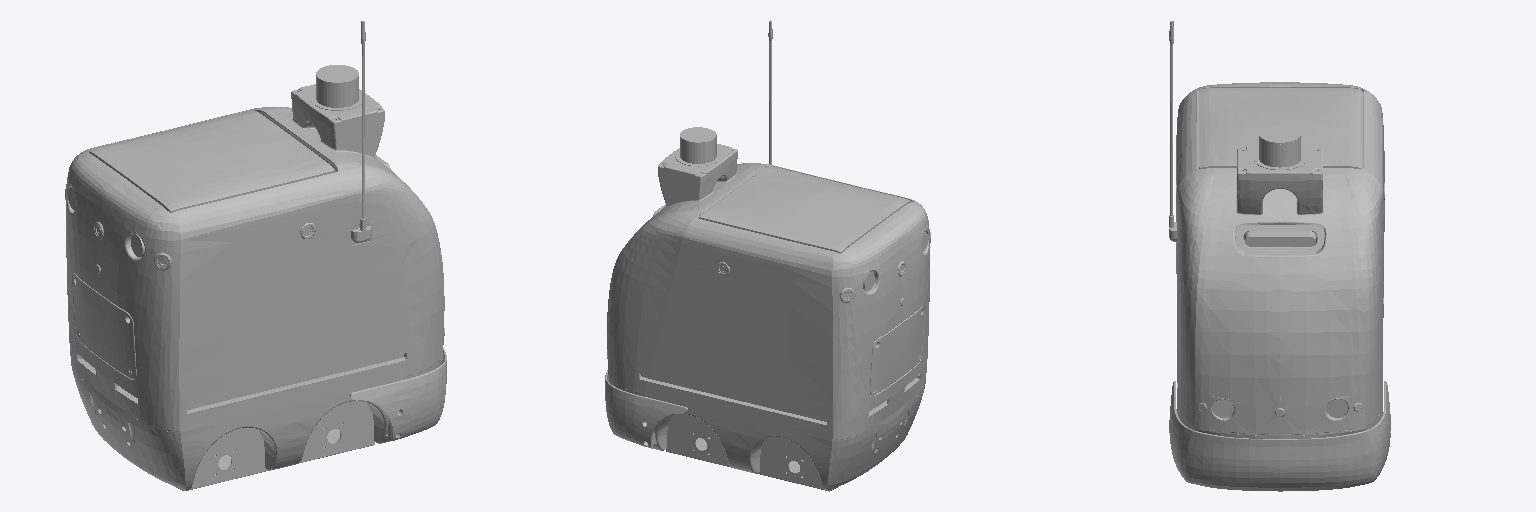
The robot description file, URDF, robot "TARS_5Full":
<?xml version="1.0" encoding="utf-8"?>
<!-- This URDF was automatically created by SolidWorks to URDF Exporter! Originally created by [author] ([email redacted]) 
     Commit Version: 1.6.0-4-g7f85cfe  Build Version: 1.6.7995.38578
     For more information, please see http://wiki.ros.org/sw_urdf_exporter -->
<robot
  name="TARS_5Full">
  <link
    name="base_link">
    <inertial>
      <origin
        xyz="-0.01821 0.00046317 0.22021"
        rpy="0 0 0" />
      <mass
        value="95.139" />
      <inertia
        ixx="2.9406"
        ixy="-0.00026719"
        ixz="0.25102"
        iyy="5.1254"
        iyz="-0.00027604"
        izz="6.0329" />
    </inertial>
    <visual>
      <origin
        xyz="0 0 0"
        rpy="0 0 0" />
      <geometry>
        <mesh
          filename="package://TARS_5Full/meshes/base_link.STL" />
      </geometry>
      <material
        name="">
        <color
          rgba="0.75294 0.75294 0.75294 1" />
      </material>
    </visual>
    <collision>
      <origin
        xyz="0 0 0"
        rpy="0 0 0" />
      <geometry>
        <mesh
          filename="package://TARS_5Full/meshes/base_link.STL" />
      </geometry>
    </collision>
  </link>
  <link
    name="FL_Link">
    <inertial>
      <origin
        xyz="-2.7756E-17 -0.0275 0"
        rpy="0 0 0" />
      <mass
        value="1.8042" />
      <inertia
        ixx="0.0051847"
        ixy="2.4325E-21"
        ixz="-3.4653E-19"
        iyy="0.0094659"
        iyz="-1.8299E-18"
        izz="0.0051847" />
    </inertial>
    <visual>
      <origin
        xyz="0 0 0"
        rpy="0 0 0" />
      <geometry>
        <mesh
          filename="package://TARS_5Full/meshes/FL_Link.STL" />
      </geometry>
      <material
        name="">
        <color
          rgba="0.79216 0.81961 0.93333 1" />
      </material>
    </visual>
    <collision>
      <origin
        xyz="0 0 0"
        rpy="0 0 0" />
      <geometry>
        <mesh
          filename="package://TARS_5Full/meshes/FL_Link.STL" />
      </geometry>
    </collision>
  </link>
  <joint
    name="FL_Joint"
    type="continuous">
    <origin
      xyz="0.15 0.2475 0.0455"
      rpy="0 0 0" />
    <parent
      link="base_link" />
    <child
      link="FL_Link" />
    <axis
      xyz="0 -1 0" />
    <limit
      effort="0"
      velocity="1.5" />
  </joint>
  <link
    name="BL_Link">
    <inertial>
      <origin
        xyz="0 -0.0275 5.5511E-17"
        rpy="0 0 0" />
      <mass
        value="1.8042" />
      <inertia
        ixx="0.0051847"
        ixy="3.69E-19"
        ixz="-2.7977E-19"
        iyy="0.0094659"
        iyz="-3.1903E-18"
        izz="0.0051847" />
    </inertial>
    <visual>
      <origin
        xyz="0 0 0"
        rpy="0 0 0" />
      <geometry>
        <mesh
          filename="package://TARS_5Full/meshes/BL_Link.STL" />
      </geometry>
      <material
        name="">
        <color
          rgba="0.79216 0.81961 0.93333 1" />
      </material>
    </visual>
    <collision>
      <origin
        xyz="0 0 0"
        rpy="0 0 0" />
      <geometry>
        <mesh
          filename="package://TARS_5Full/meshes/BL_Link.STL" />
      </geometry>
    </collision>
  </link>
  <joint
    name="BL_Joint"
    type="continuous">
    <origin
      xyz="-0.15 0.2475 0.0455"
      rpy="0 0 0" />
    <parent
      link="base_link" />
    <child
      link="BL_Link" />
    <axis
      xyz="0 -1 0" />
    <limit
      effort="0"
      velocity="1.5" />
  </joint>
  <link
    name="BR_Link">
    <inertial>
      <origin
        xyz="0 0.0275 2.7756E-17"
        rpy="0 0 0" />
      <mass
        value="1.8042" />
      <inertia
        ixx="0.0051847"
        ixy="2.4335E-20"
        ixz="-7.549E-20"
        iyy="0.0094659"
        iyz="3.0863E-18"
        izz="0.0051847" />
    </inertial>
    <visual>
      <origin
        xyz="0 0 0"
        rpy="0 0 0" />
      <geometry>
        <mesh
          filename="package://TARS_5Full/meshes/BR_Link.STL" />
      </geometry>
      <material
        name="">
        <color
          rgba="0.79216 0.81961 0.93333 1" />
      </material>
    </visual>
    <collision>
      <origin
        xyz="0 0 0"
        rpy="0 0 0" />
      <geometry>
        <mesh
          filename="package://TARS_5Full/meshes/BR_Link.STL" />
      </geometry>
    </collision>
  </link>
  <joint
    name="BR_Joint"
    type="continuous">
    <origin
      xyz="-0.15 -0.2475 0.0455"
      rpy="0 0 0" />
    <parent
      link="base_link" />
    <child
      link="BR_Link" />
    <axis
      xyz="0 -1 0" />
    <limit
      effort="0"
      velocity="1.5" />
  </joint>
  <link
    name="FR_Link">
    <inertial>
      <origin
        xyz="-2.7756E-17 0.0275 2.7756E-17"
        rpy="0 0 0" />
      <mass
        value="1.8042" />
      <inertia
        ixx="0.0051847"
        ixy="-6.0209E-20"
        ixz="2.9347E-20"
        iyy="0.0094659"
        iyz="3.2384E-18"
        izz="0.0051847" />
    </inertial>
    <visual>
      <origin
        xyz="0 0 0"
        rpy="0 0 0" />
      <geometry>
        <mesh
          filename="package://TARS_5Full/meshes/FR_Link.STL" />
      </geometry>
      <material
        name="">
        <color
          rgba="0.79216 0.81961 0.93333 1" />
      </material>
    </visual>
    <collision>
      <origin
        xyz="0 0 0"
        rpy="0 0 0" />
      <geometry>
        <mesh
          filename="package://TARS_5Full/meshes/FR_Link.STL" />
      </geometry>
    </collision>
  </link>
  <joint
    name="FR_Joint"
    type="continuous">
    <origin
      xyz="0.15 -0.2475 0.0455"
      rpy="0 0 0" />
    <parent
      link="base_link" />
    <child
      link="FR_Link" />
    <axis
      xyz="0 -1 0" />
    <limit
      effort="0"
      velocity="1.5" />
  </joint>
  <link
    name="Lidar_Link">
    <inertial>
      <origin
        xyz="0.039987 -0.030612 -0.1868"
        rpy="0 0 0" />
      <mass
        value="2.3103" />
      <inertia
        ixx="0.0027513"
        ixy="2.2072E-19"
        ixz="-4.9174E-19"
        iyy="0.002027"
        iyz="-1.3752E-06"
        izz="0.0025637" />
    </inertial>
    <visual>
      <origin
        xyz="0 0 0"
        rpy="0 0 0" />
      <geometry>
        <mesh
          filename="package://TARS_5Full/meshes/Lidar_Link.STL" />
      </geometry>
      <material
        name="">
        <color
          rgba="0.75294 0.75294 0.75294 1" />
      </material>
    </visual>
    <collision>
      <origin
        xyz="0 0 0"
        rpy="0 0 0" />
      <geometry>
        <mesh
          filename="package://TARS_5Full/meshes/Lidar_Link.STL" />
      </geometry>
    </collision>
  </link>
  <joint
    name="Lidar_joint"
    type="fixed">
    <origin
      xyz="0.265 0 0.855"
      rpy="0 0 0" />
    <parent
      link="base_link" />
    <child
      link="Lidar_Link" />
    <axis
      xyz="0 0 0" />
  </joint>

<!--Skid Steer Plugin ..............................................-->

 <gazebo>
  <plugin name="skid_steer_drive_controller" filename="libgazebo_ros_skid_steer_drive.so">
    <updateRate>100.0</updateRate>
    <robotNamespace>/</robotNamespace>
    <leftFrontJoint>FL_Joint</leftFrontJoint>
    <rightFrontJoint>FR_Joint</rightFrontJoint>
    <leftRearJoint>BL_Joint</leftRearJoint>
    <rightRearJoint>BR_Joint</rightRearJoint>
    <wheelSeparation>0.495</wheelSeparation>
    <wheelDiameter>0.205</wheelDiameter>
    <robotBaseFrame>base_link</robotBaseFrame>
    <torque>20</torque>
    <commandTopic>cmd_vel</commandTopic>
    <odometryTopic>odom</odometryTopic>
    <odometryFrame>odom</odometryFrame>
    <broadcastTF>true</broadcastTF>
    <covariance_x>0.001</covariance_x> <!-- 0.0001 -->
    <covariance_y>0.001</covariance_y> <!-- 0.0001 -->
    <covariance_yaw>0.01</covariance_yaw> <!-- 0.01 -->
  </plugin>
</gazebo>

</robot>

--- Render facts (derived) ---
3 views of the same robot in one strip: view 1: azimuth 30°, elevation 25°; view 2: azimuth 150°, elevation 25°; view 3: azimuth 270°, elevation 25° (orthographic).
Model TARS_5Full with 6 links and 5 joints (4 continuous, 1 fixed), rooted at base_link, posed every joint at zero.
Visible links, largest first — view 1: base_link; view 2: base_link; view 3: base_link, Lidar_Link.
Link boxes in pixels (left/top/right/bottom): base_link: left=65, top=21, right=446, bottom=490; base_link: left=605, top=20, right=930, bottom=491; base_link: left=1169, top=21, right=1390, bottom=491; Lidar_Link: left=1259, top=137, right=1300, bottom=167.
Size in the robot's own frame: 0.8882 by 0.5371 by 1.16 metres.
Meshes: 6 distinct files referenced, 2 mesh visuals loaded (2 binary STL); not drawn: 4 (reference not matched to a file when rendering).